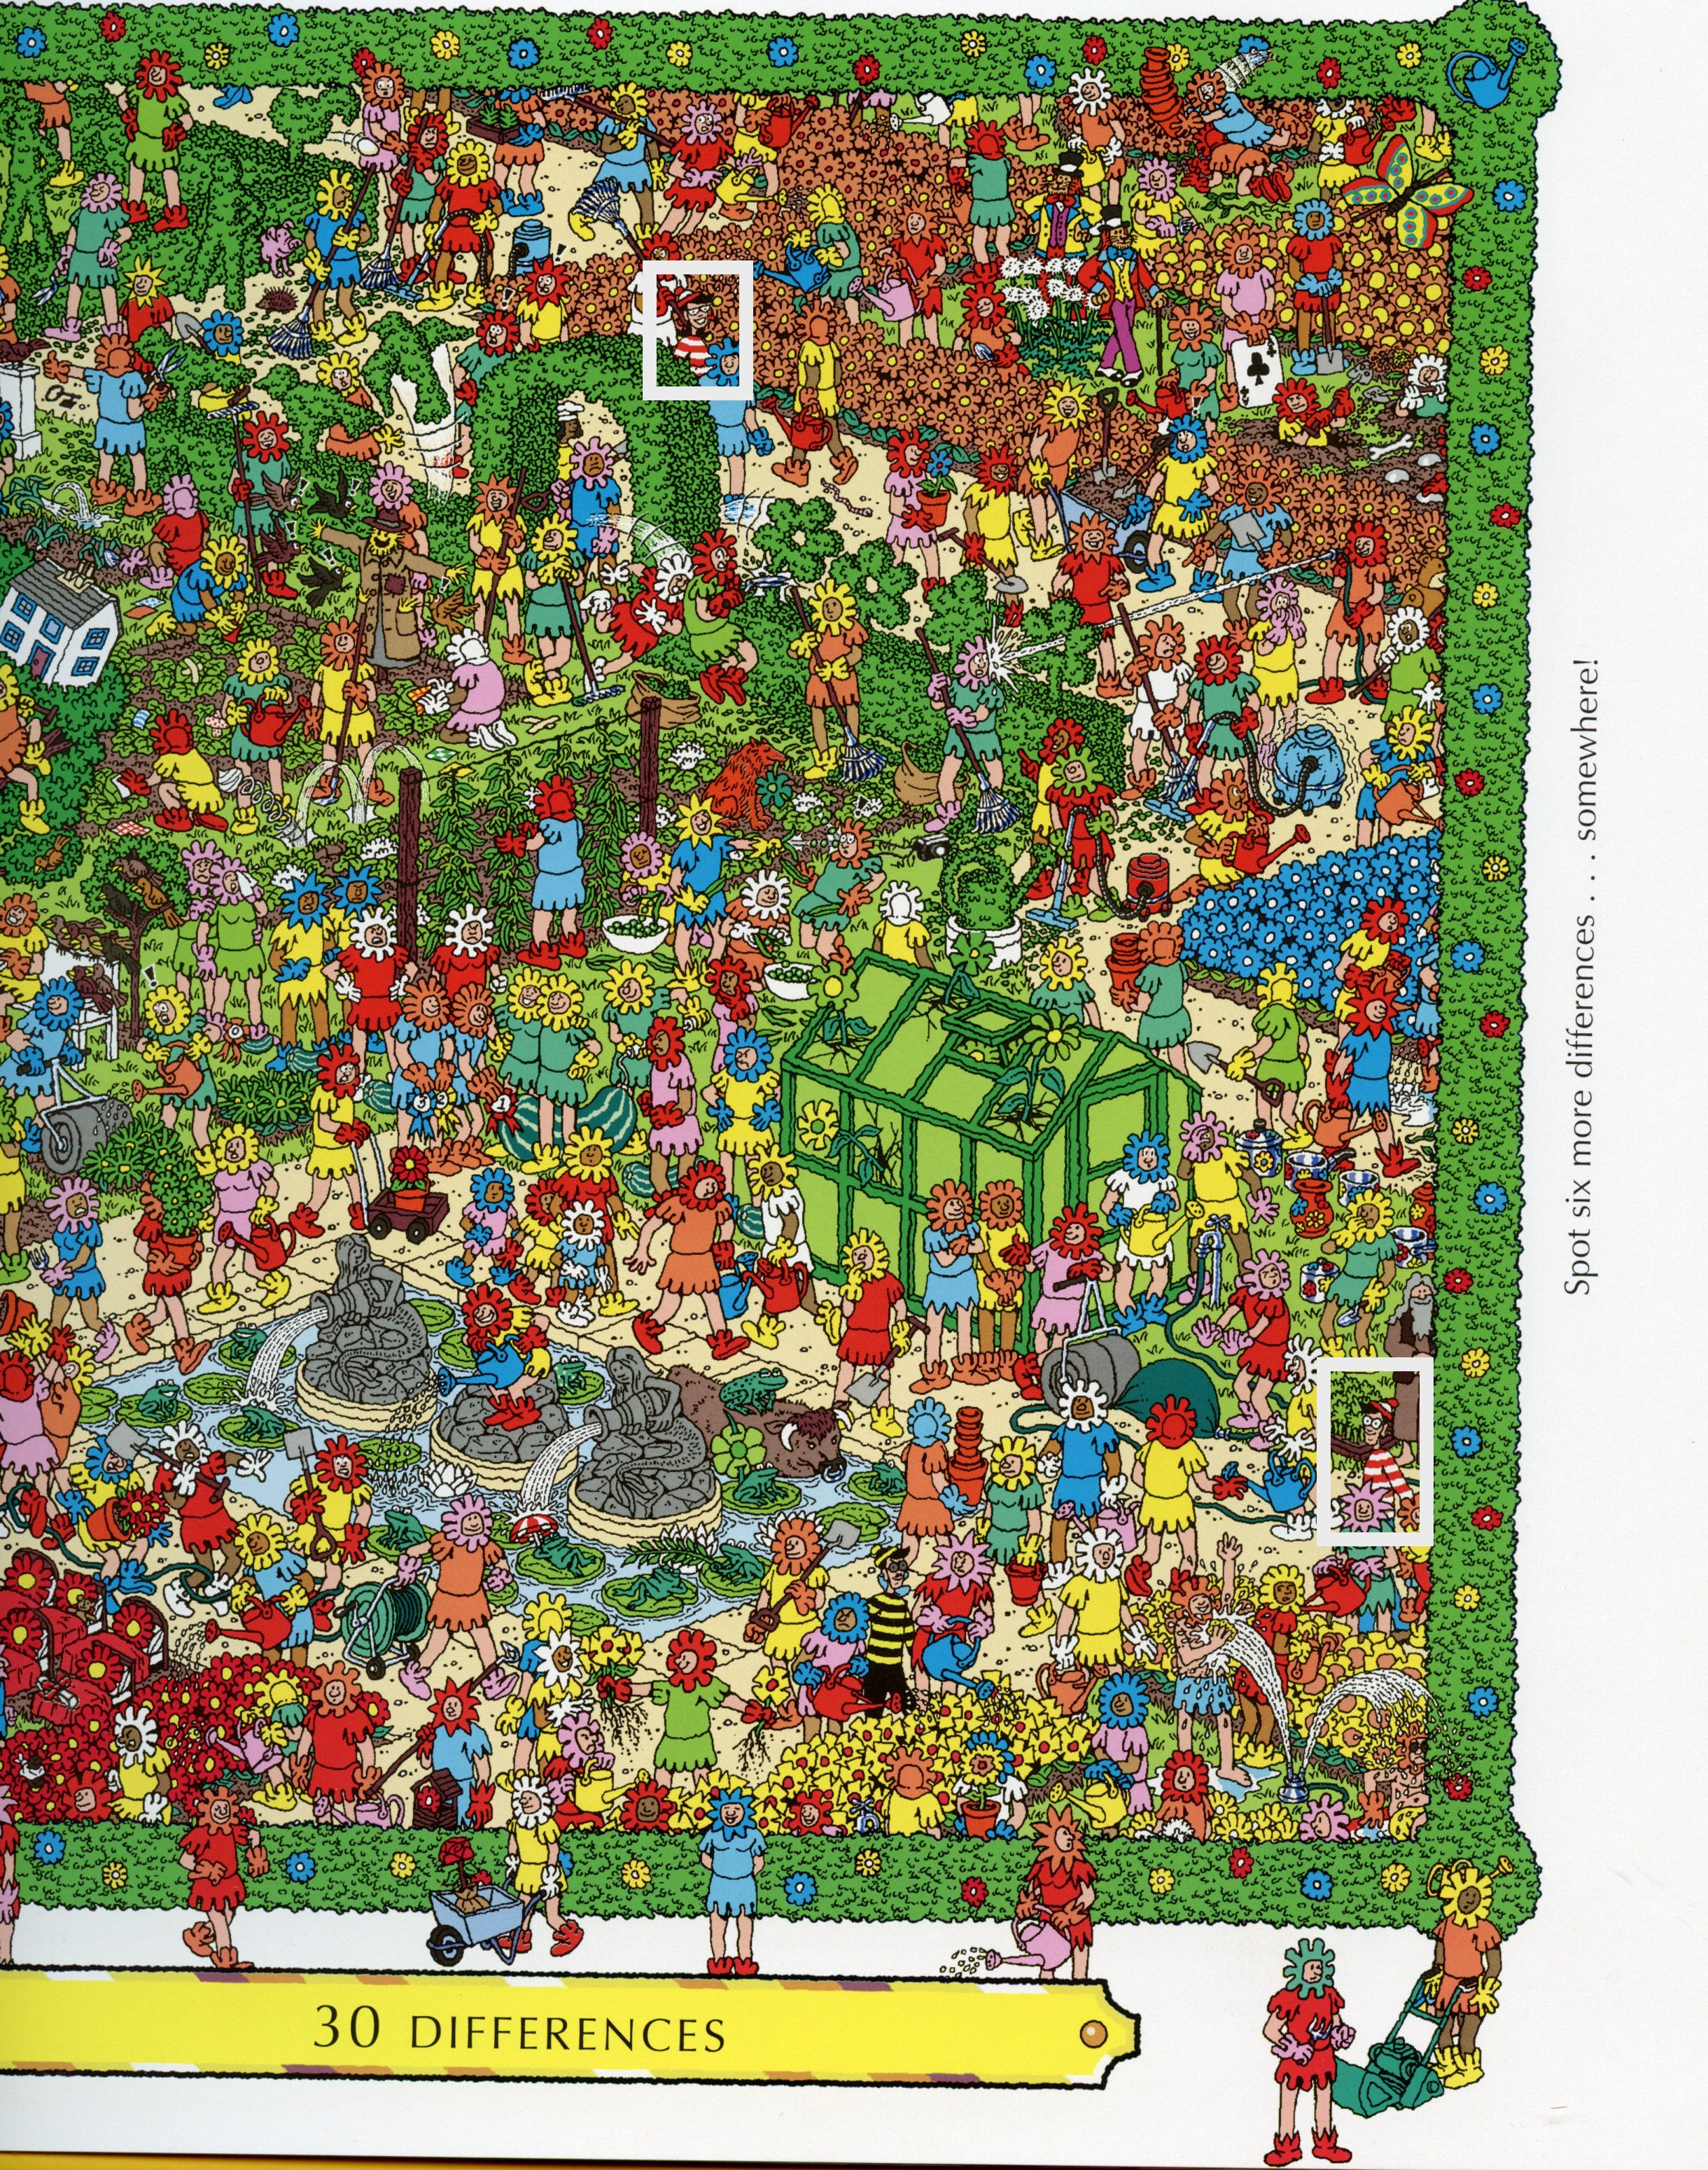waldo: (1317, 1362, 1433, 1568)
